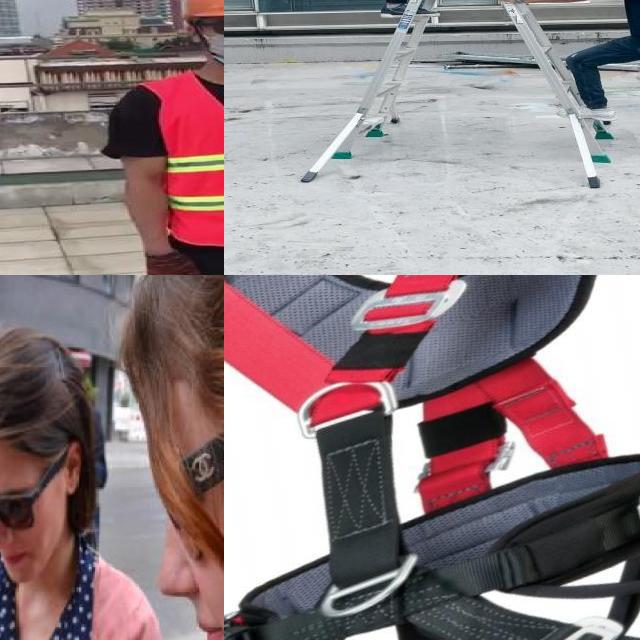Harness: (224, 275, 640, 640)
face_mask: (201, 12, 224, 67)
face_nomask: (140, 436, 224, 640), (0, 474, 51, 579)
glasses: (0, 477, 40, 532), (202, 11, 224, 43)
hand_glove: (148, 251, 203, 275)
hand_noglove: (492, 0, 524, 4)
head_nohelmet: (129, 275, 224, 430), (0, 359, 78, 456)
person: (0, 326, 159, 640), (118, 0, 224, 275), (556, 0, 640, 161)
shoes: (556, 97, 619, 123), (379, 0, 445, 22)
vest: (154, 71, 224, 246)
